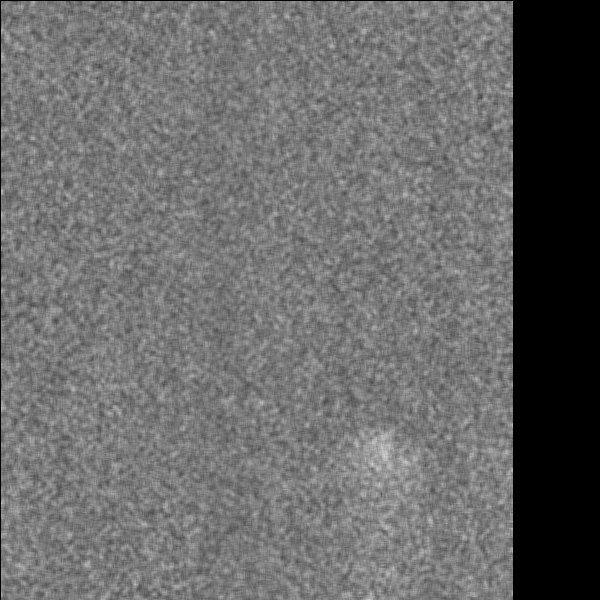spark: (371, 424, 391, 485)
